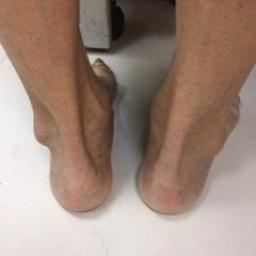Back View -Both Feet-: (3, 38, 250, 218)
